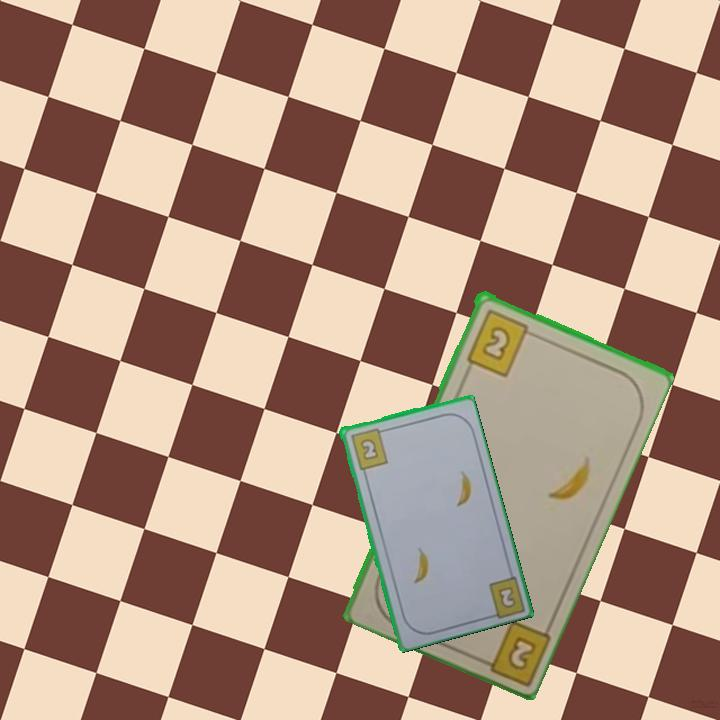2b: (462, 305, 539, 379), (471, 615, 552, 685), (347, 424, 390, 472), (494, 582, 519, 611)
